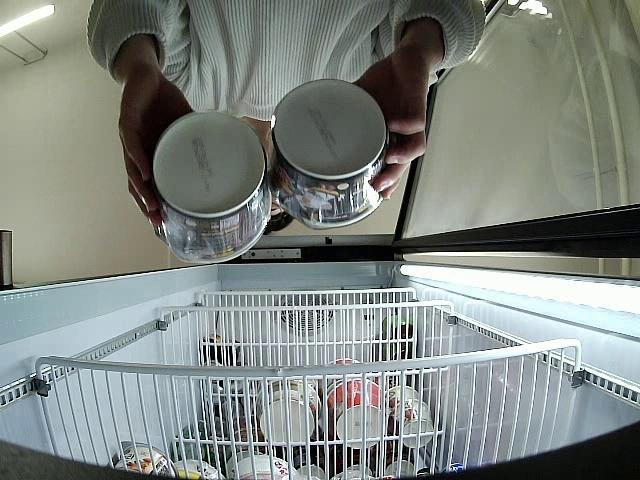07_buldak_L: (150, 111, 270, 266), (271, 83, 390, 228)
